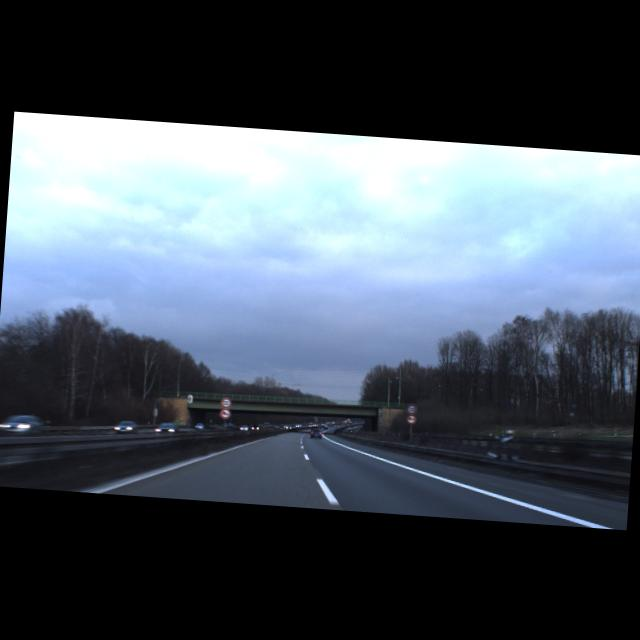prohibitory: (218, 406, 231, 418), (406, 412, 418, 424), (219, 396, 231, 407), (405, 403, 417, 414)
